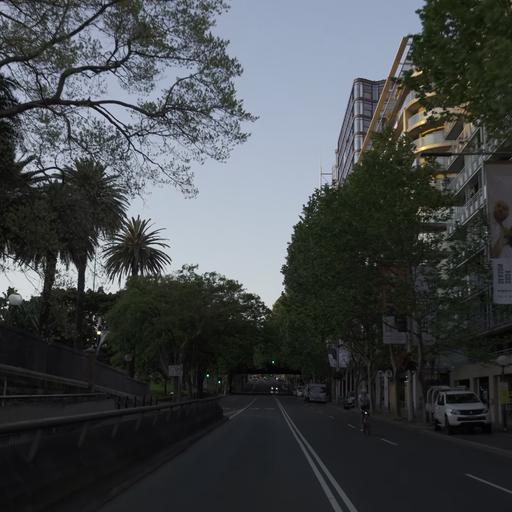Street light: (0, 285, 22, 406), (0, 285, 22, 322), (7, 291, 22, 306)
